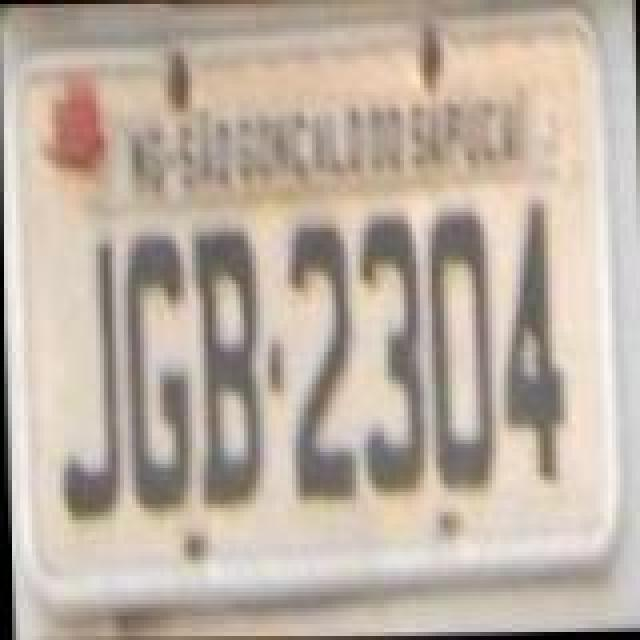2: (286, 224, 354, 508)
3: (352, 214, 424, 498)
4: (498, 202, 566, 486)
B: (188, 226, 260, 510)
G: (122, 238, 194, 518)
J: (52, 238, 120, 522)
O: (426, 208, 494, 496)
